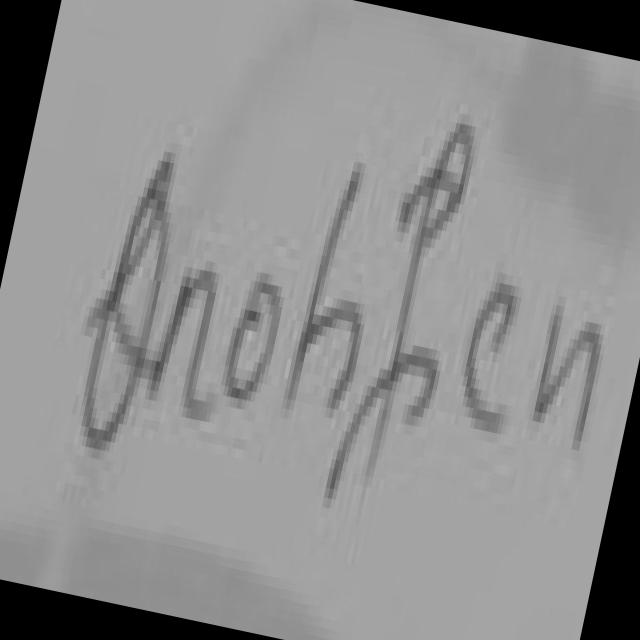O: (84, 161, 171, 447)
c: (466, 285, 515, 429)
f: (328, 124, 474, 495)
h: (288, 172, 363, 409)
n: (151, 271, 216, 418), (538, 316, 602, 446)
o: (227, 282, 281, 396)
